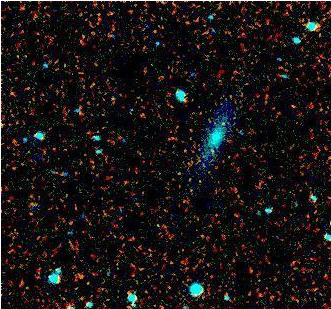star: (200, 126, 230, 156)
